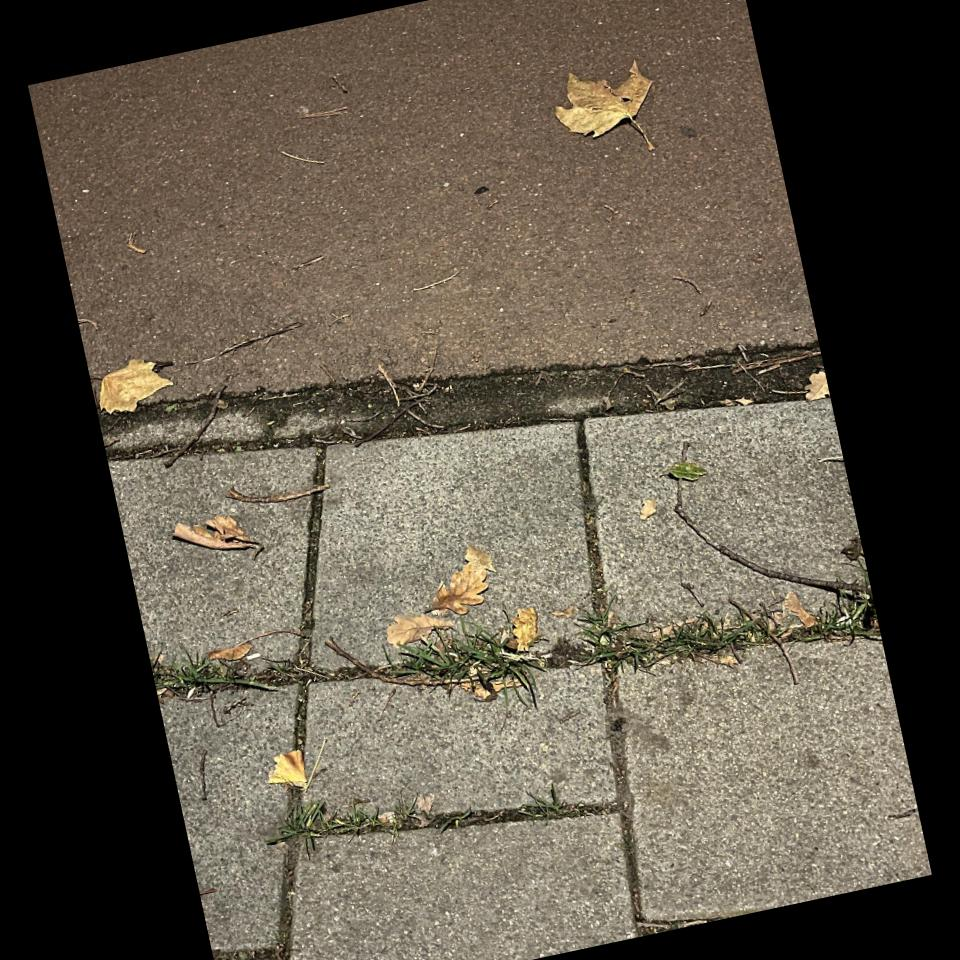weed: (580, 595, 881, 671), (326, 620, 545, 706), (434, 783, 617, 833), (266, 800, 419, 847), (151, 656, 274, 697)
